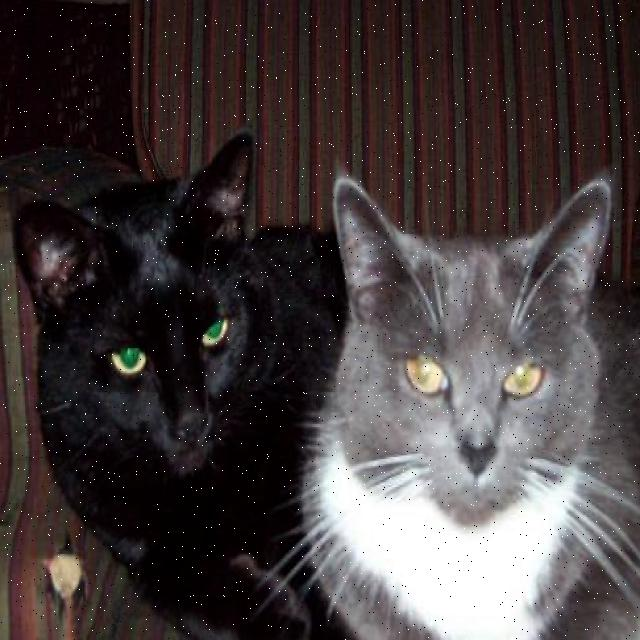Cat: (327, 176, 618, 534), (12, 142, 279, 512)
